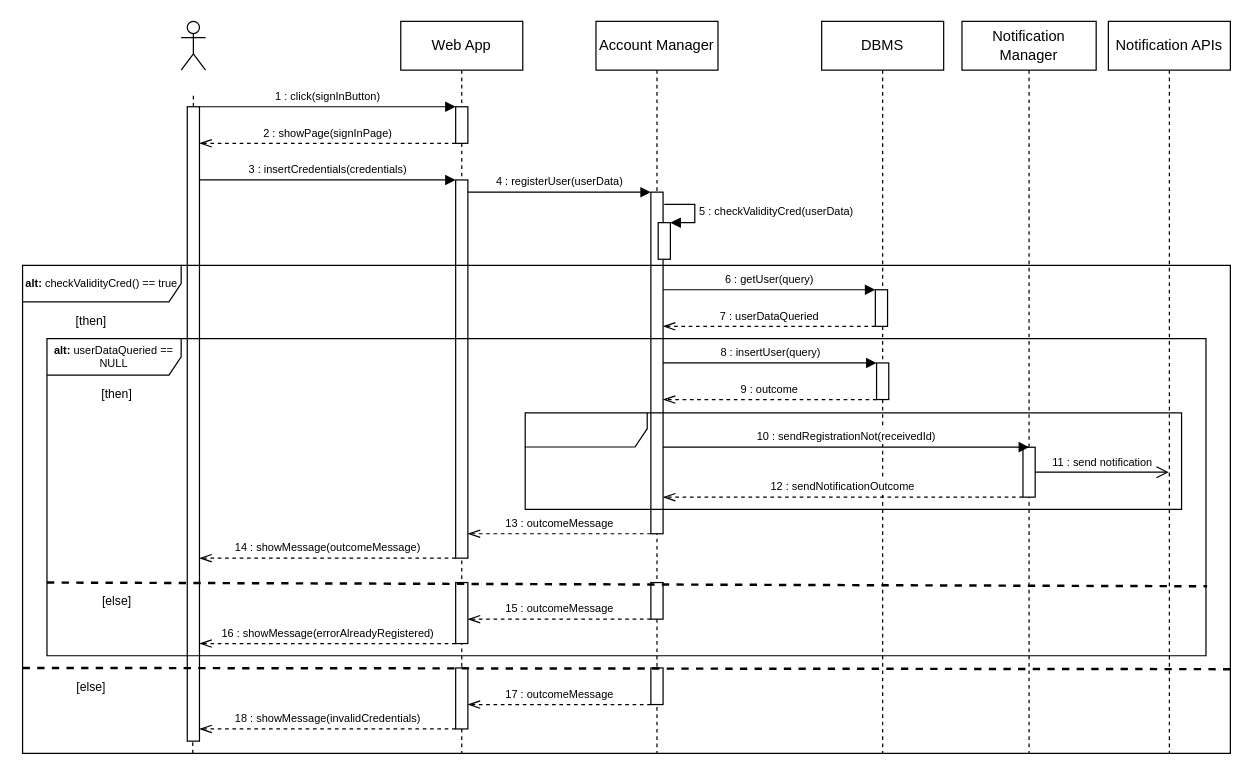
Image size: 1253x776. Some labels were removed from this diagram. The centre of each missing label's shape, as x and y in pixels:
"Educator" goes at point (193, 45).
"loop: sendNotification Outcome == false" goes at point (853, 460).
